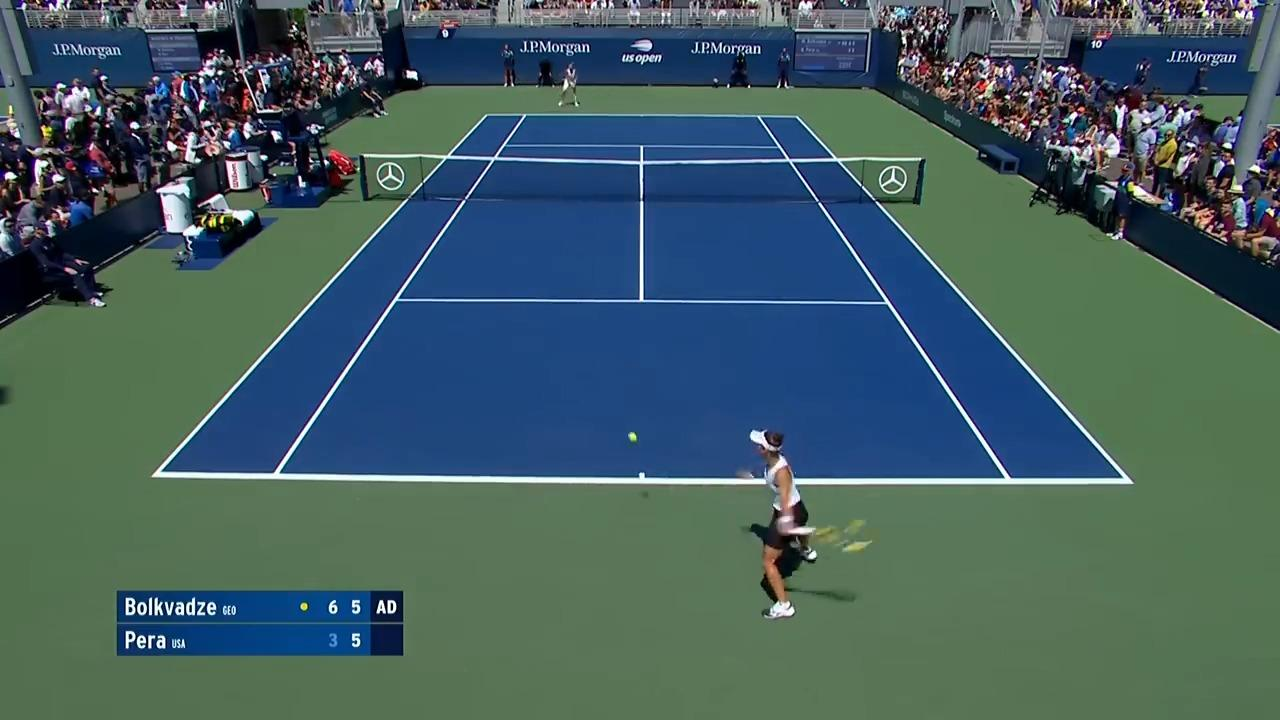tennis ball: (630, 432, 638, 442)
